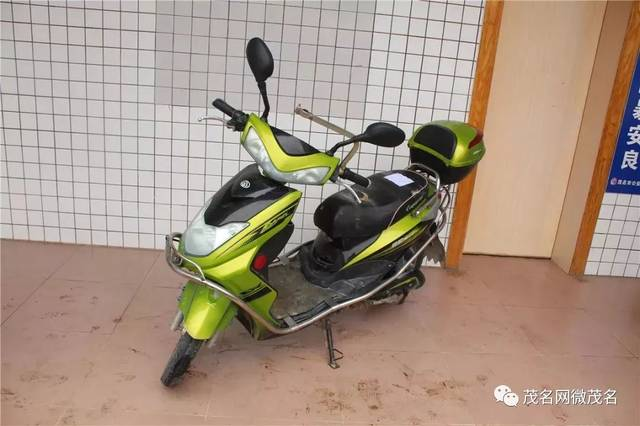电动车: (154, 35, 491, 392)
